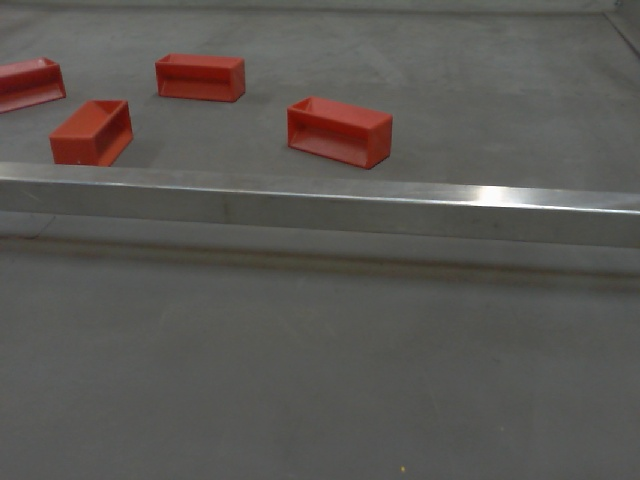RedSample: (282, 94, 396, 173), (47, 100, 135, 168), (154, 51, 248, 106), (1, 56, 69, 115)
